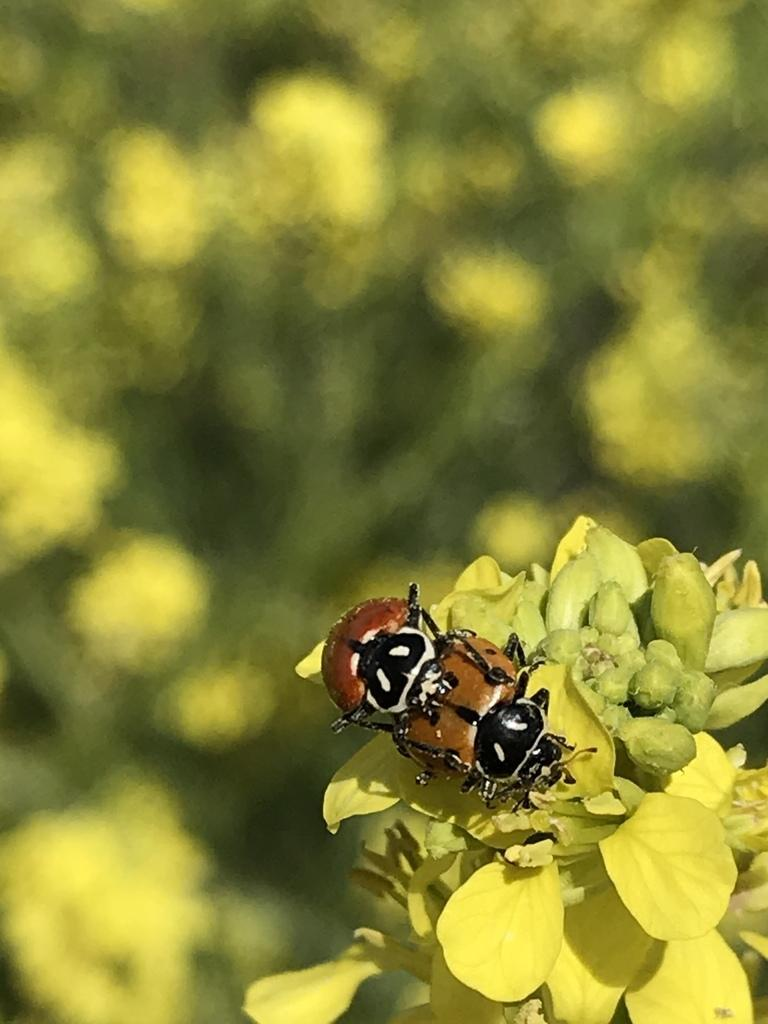ladybug: (320, 580, 516, 780), (395, 631, 602, 820)
